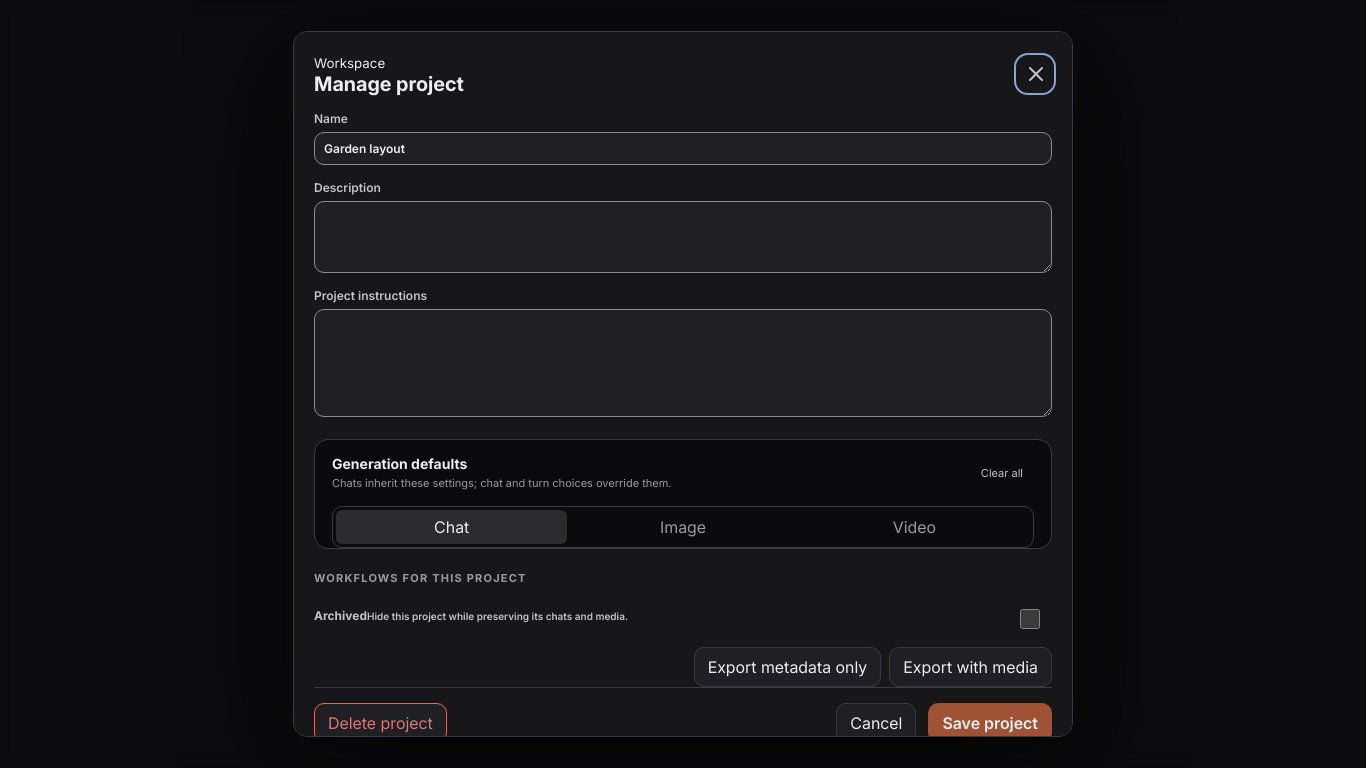
Test: retries an uncertain Trash result with exactly the same command
Click the button "Delete project": (380, 723) [314,703,447,743]
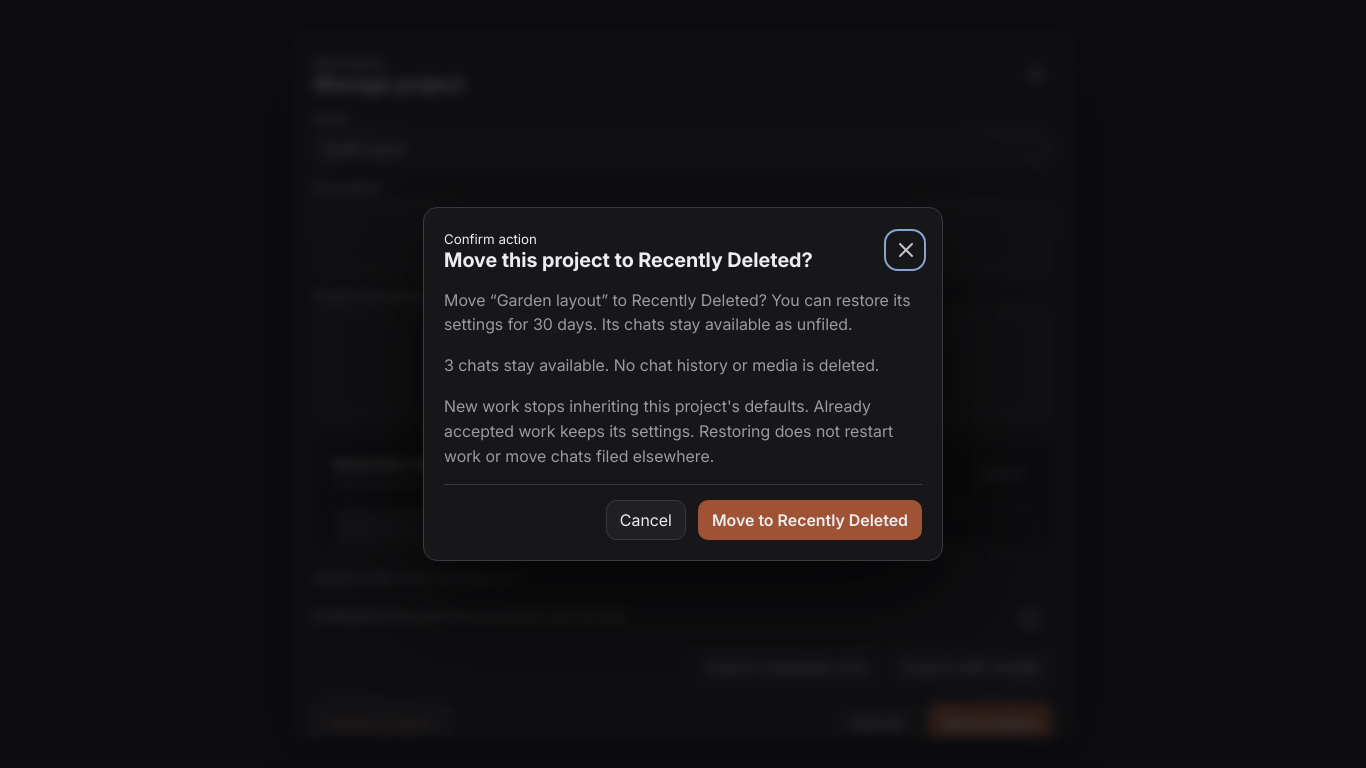
Click the button "Move to Recently Deleted": (810, 520) [698,500,922,540]
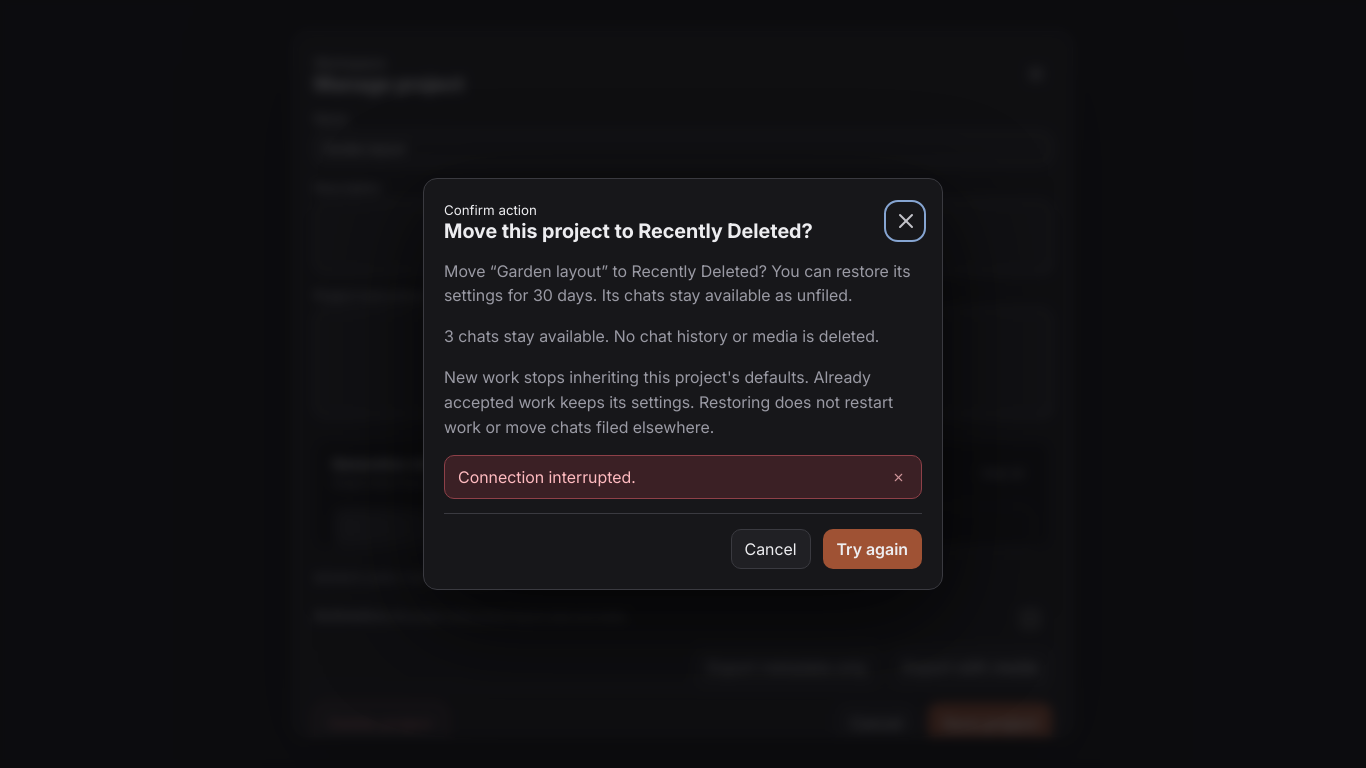
Click the button "Try again": (872, 549) [823,529,922,569]
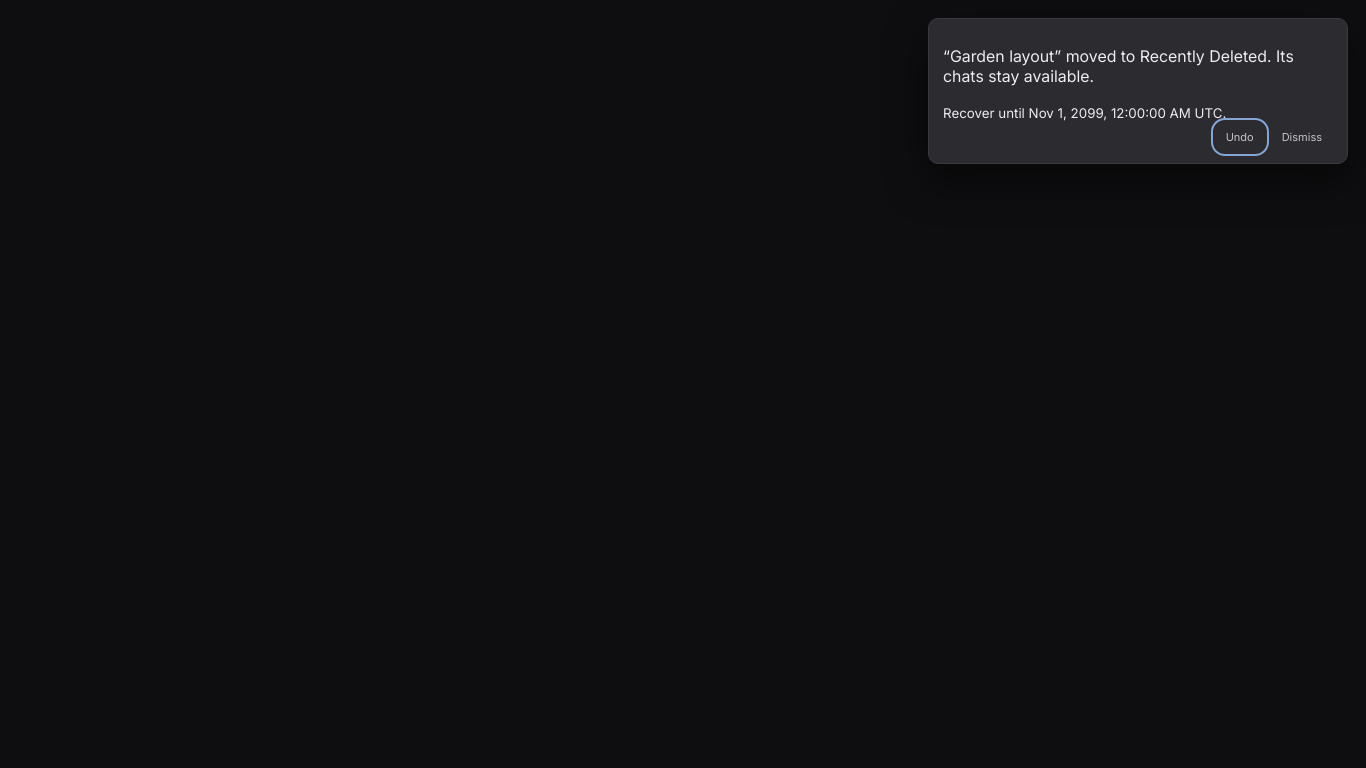
Expected: the button "Undo" is shown, [1215,122,1265,152]
